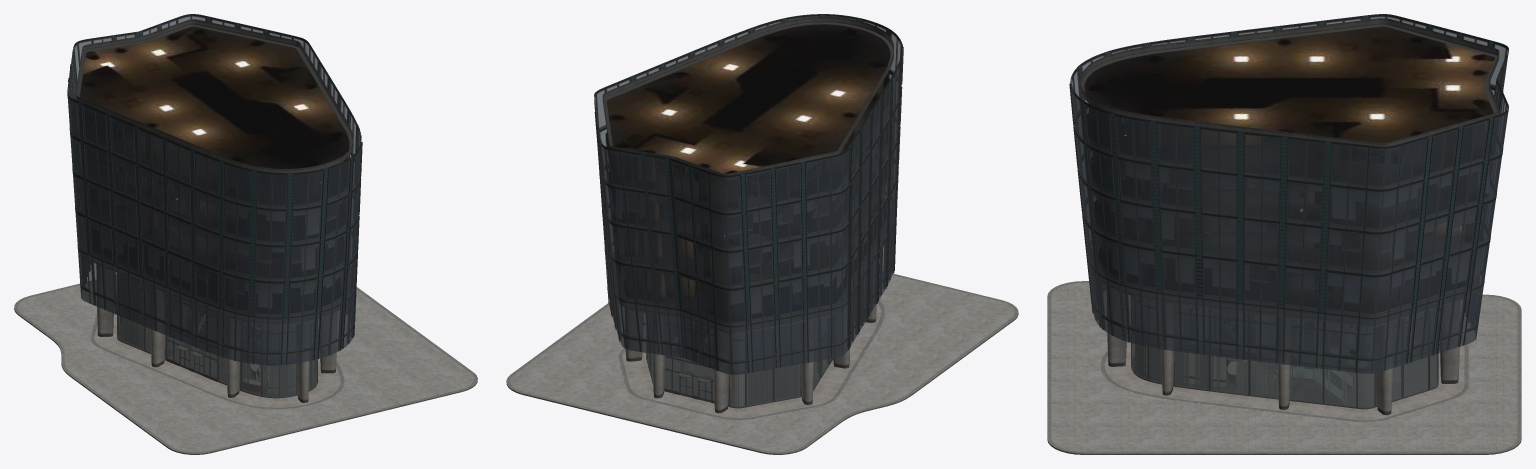
File: free_london_skyscraper_optimized.glb
The picture shows the model from 3 angles, left to right: view 1: azimuth 30°, elevation 25°; view 2: azimuth 150°, elevation 25°; view 3: azimuth 270°, elevation 25°; orthographic projection. The views are drawn at different scales.
Visible parts, largest first — view 1: Interior_Top, Glass_Generic, Sidewalk_02, Building_Facade.003, Glass_Generic.001, Sidewalk_01, Building_Facade.008, Building_Facade.004, Interior_Blinds, Building_Facade.007, Glass_Lobby.002, Concrete_Pillar.001 (+9 smaller); view 2: Interior_Top, Glass_Generic, Sidewalk_02, Building_Facade.003, Glass_Generic.001, Sidewalk_01, Building_Facade.004, Building_Facade.007, Building_Facade.008, Interior_Blinds, Concrete_Pillar.001, Glass_Lobby.002 (+8 smaller); view 3: Interior_Top, Glass_Generic, Building_Facade.003, Sidewalk_02, Glass_Generic.001, Interior_Blinds, Sidewalk_01, Glass_Lobby.002, Building_Facade.008, Building_Facade.004, Concrete_Pillar, Building_Facade.007 (+8 smaller).
Boxes of the visible parts, x1=… form: Interior_Top: x1=78, y1=26, x2=349, y2=313; Glass_Generic: x1=67, y1=14, x2=361, y2=316; Sidewalk_02: x1=17, y1=276, x2=474, y2=452; Building_Facade.003: x1=67, y1=14, x2=361, y2=318; Glass_Generic.001: x1=78, y1=250, x2=355, y2=365; Sidewalk_01: x1=14, y1=275, x2=477, y2=454; Building_Facade.008: x1=75, y1=19, x2=353, y2=284; Building_Facade.004: x1=77, y1=224, x2=356, y2=365; Interior_Blinds: x1=87, y1=146, x2=344, y2=308; Building_Facade.007: x1=68, y1=50, x2=362, y2=316; Glass_Lobby.002: x1=117, y1=274, x2=317, y2=397; Concrete_Pillar.001: x1=96, y1=264, x2=241, y2=397; Interior_Top: x1=605, y1=24, x2=890, y2=322; Glass_Generic: x1=594, y1=14, x2=902, y2=324; Sidewalk_02: x1=510, y1=275, x2=1014, y2=451; Building_Facade.003: x1=594, y1=14, x2=903, y2=326; Glass_Generic.001: x1=605, y1=195, x2=896, y2=374; Sidewalk_01: x1=506, y1=273, x2=1018, y2=454; Building_Facade.004: x1=605, y1=194, x2=896, y2=374; Building_Facade.007: x1=594, y1=47, x2=903, y2=323; Building_Facade.008: x1=602, y1=16, x2=893, y2=292; Interior_Blinds: x1=612, y1=110, x2=888, y2=313; Concrete_Pillar.001: x1=713, y1=260, x2=876, y2=413; Glass_Lobby.002: x1=646, y1=314, x2=829, y2=407; Interior_Top: x1=1084, y1=26, x2=1494, y2=313; Glass_Generic: x1=1070, y1=14, x2=1508, y2=315; Building_Facade.003: x1=1070, y1=14, x2=1508, y2=318; Sidewalk_02: x1=1051, y1=282, x2=1517, y2=451; Glass_Generic.001: x1=1088, y1=245, x2=1483, y2=373; Interior_Blinds: x1=1090, y1=122, x2=1489, y2=303; Sidewalk_01: x1=1047, y1=281, x2=1521, y2=454; Glass_Lobby.002: x1=1131, y1=297, x2=1438, y2=408; Building_Facade.008: x1=1080, y1=18, x2=1499, y2=272; Building_Facade.004: x1=1086, y1=244, x2=1484, y2=373; Concrete_Pillar: x1=1161, y1=301, x2=1459, y2=415; Building_Facade.007: x1=1069, y1=67, x2=1503, y2=311.
Size of the model in its own units: 37.24 by 29.46 by 43.3.
16 materials, 14 textured.
